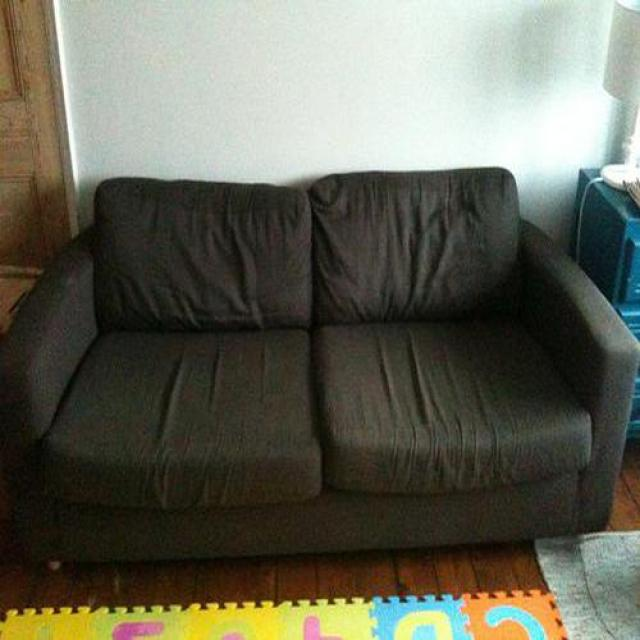sofa: (0, 168, 640, 582)
